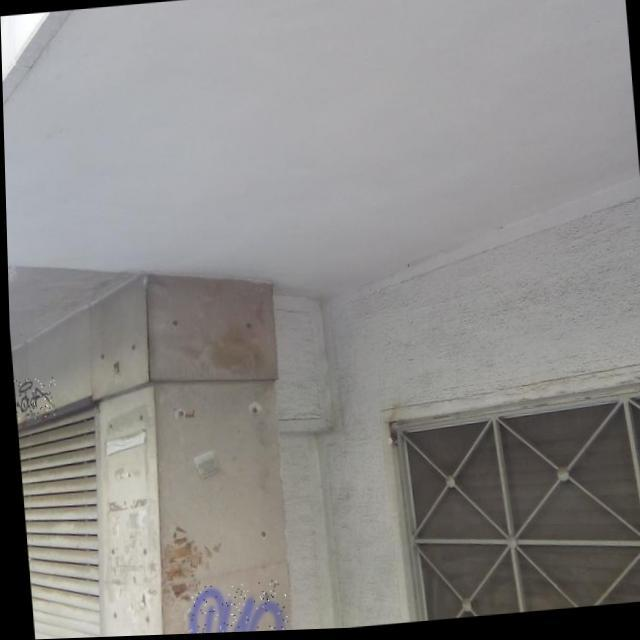-: (181, 581, 285, 635), (12, 378, 56, 420)
